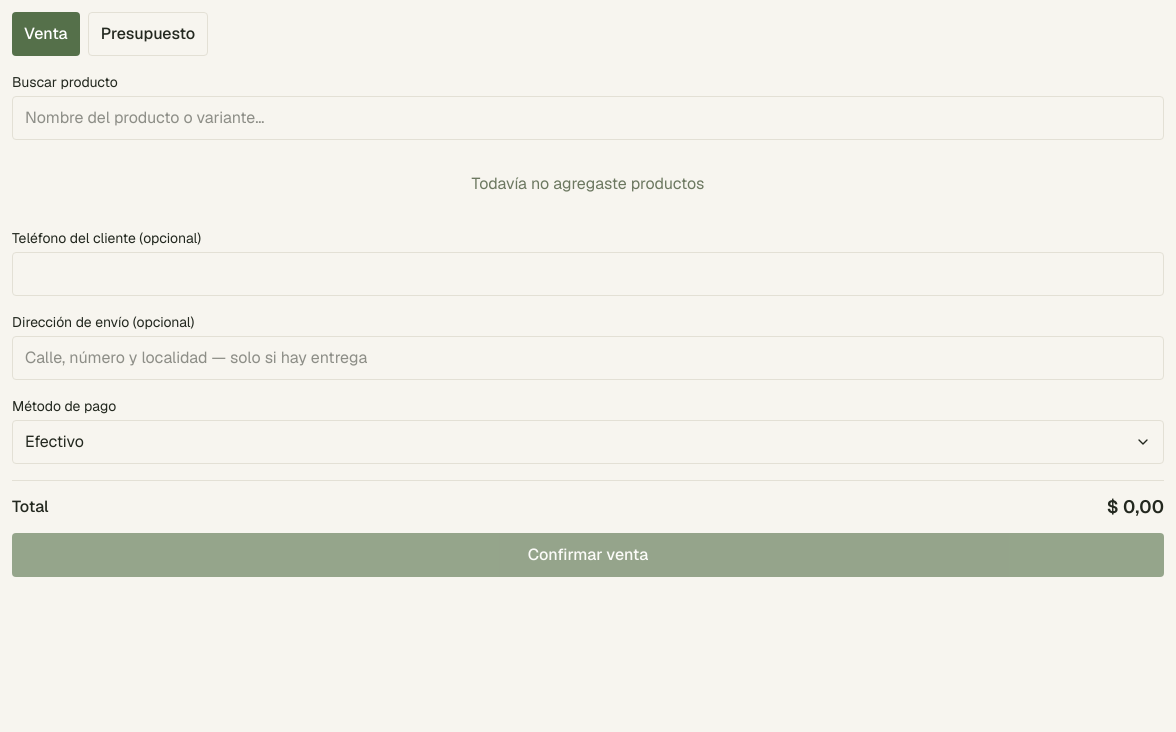
Scenario: SaleCart › agregar el mismo ítem dos veces suma cantidad en vez de duplicar la fila
Type "milán" into the field labelled "Buscar producto" at (588,118), box top-left (12, 96), bottom-right (1164, 140)
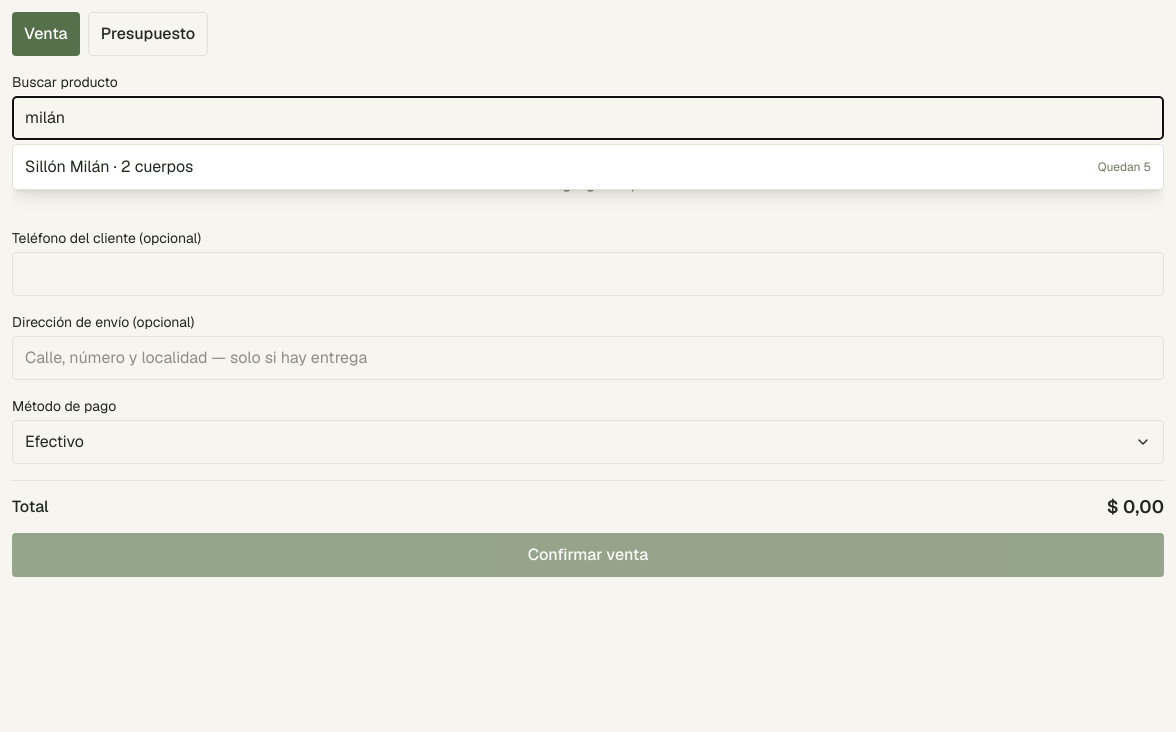
Click the button "Sillón Milán · 2 cuerpos Quedan 5" at (67,166), box top-left (13, 145), bottom-right (1163, 189)
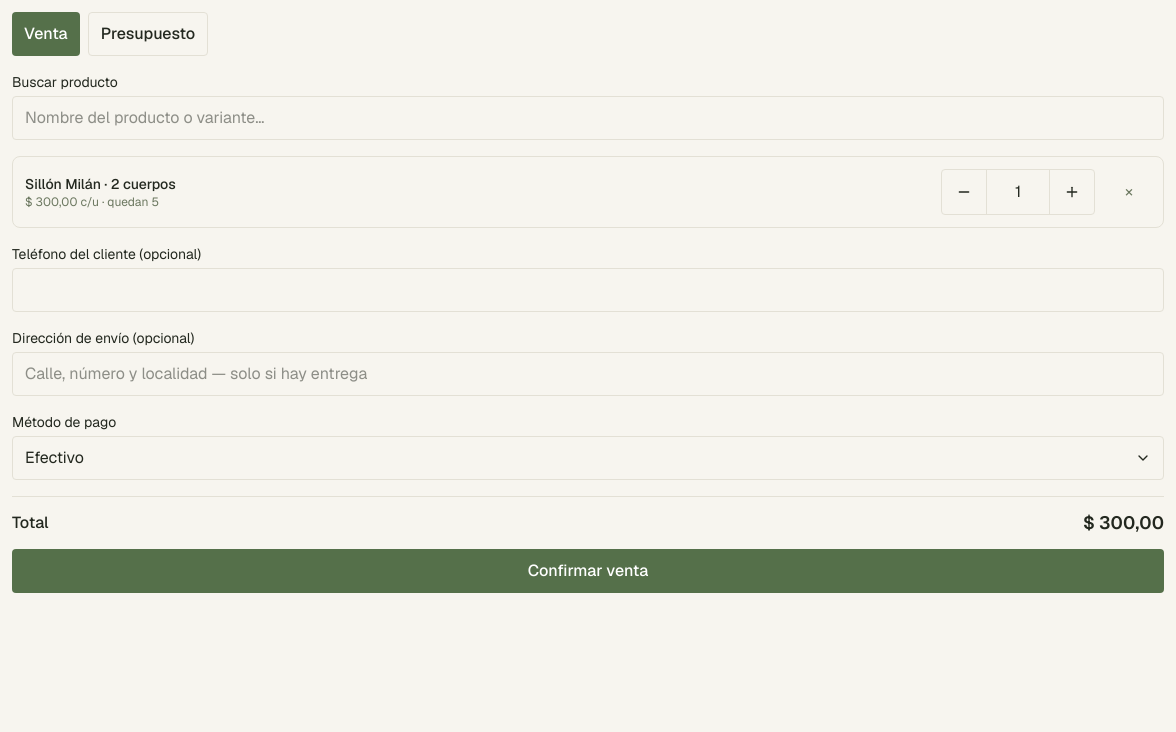
Type "milán" into the field labelled "Buscar producto" at (588,118), box top-left (12, 96), bottom-right (1164, 140)
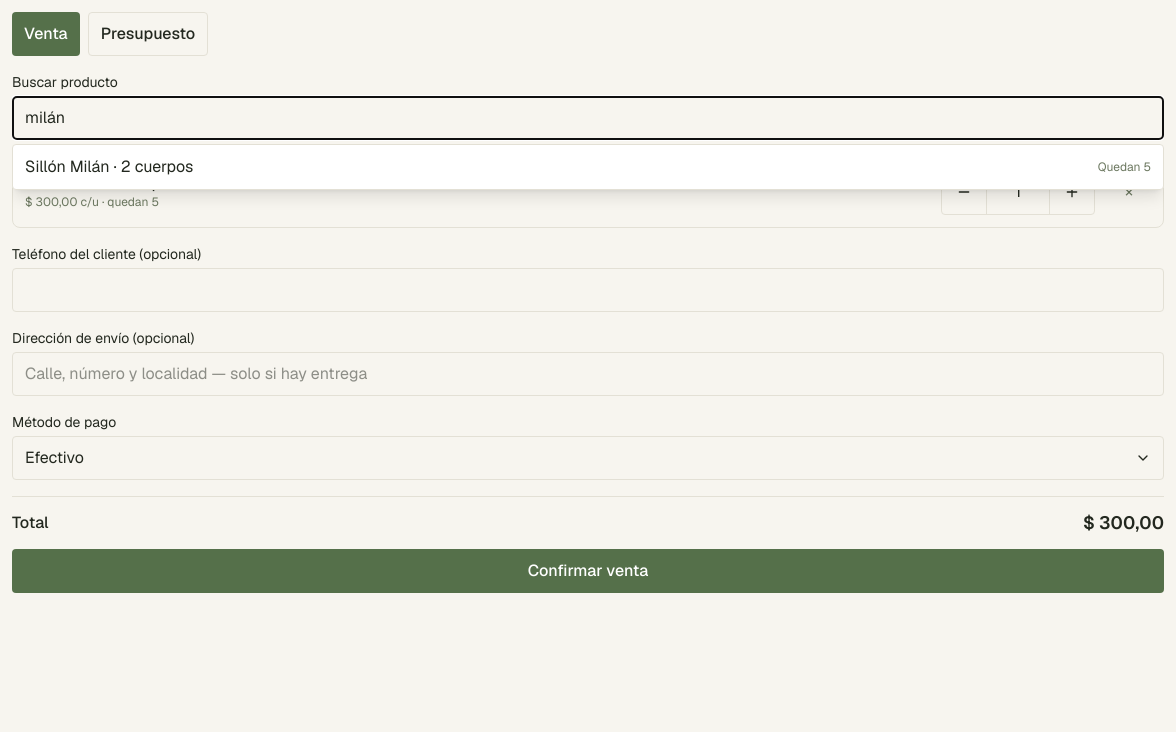
Click the button "Sillón Milán · 2 cuerpos Quedan 5" at (67,166), box top-left (13, 145), bottom-right (1163, 189)
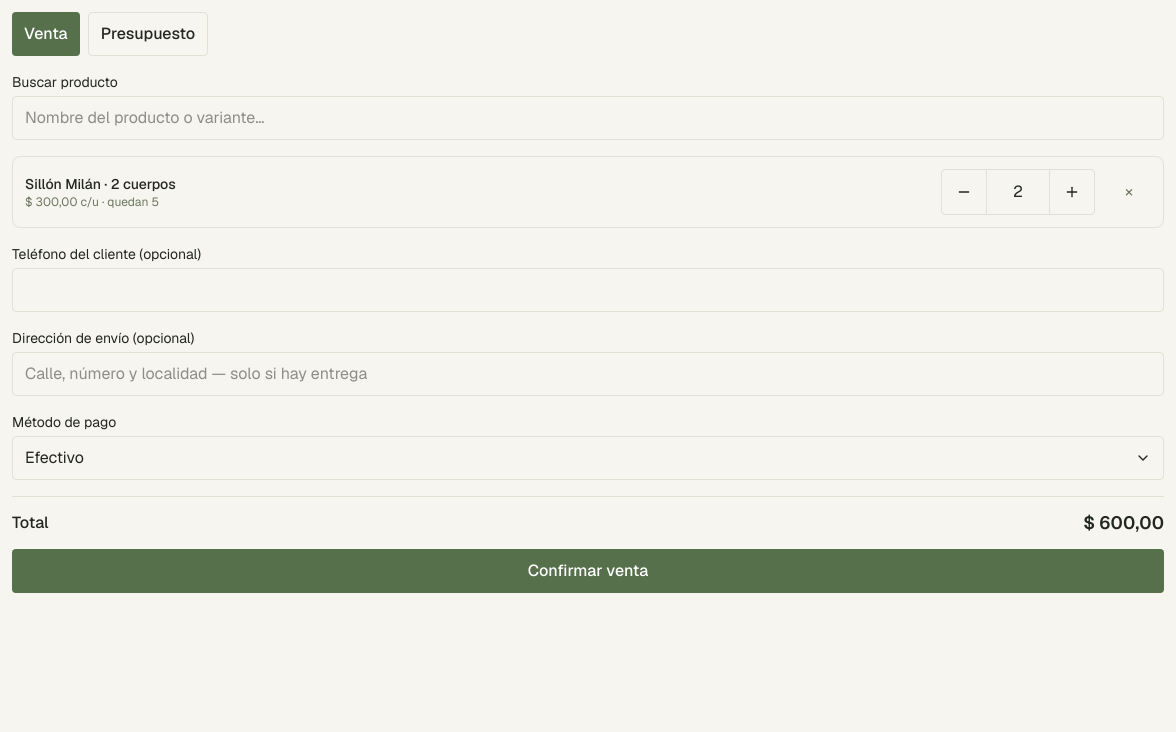
Now the number of fields named "Cantidad (" is 1, box top-left (986, 170), bottom-right (1050, 214)
Now the field named "Cantidad (" holds "2", box top-left (986, 170), bottom-right (1050, 214)
